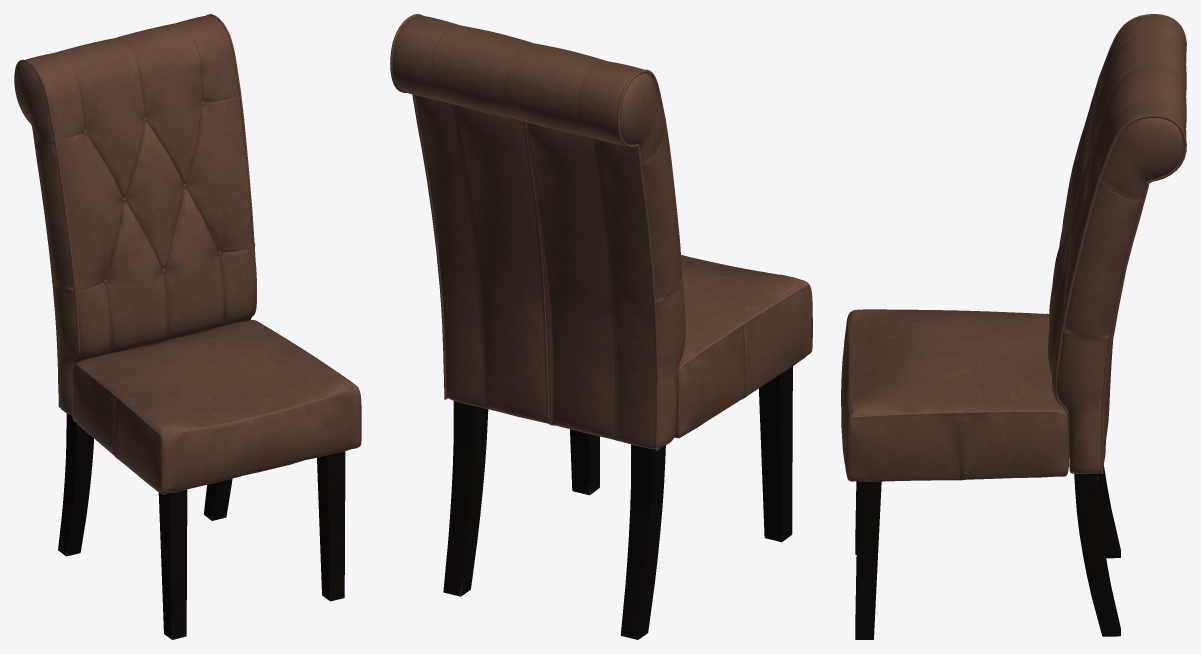
The model's file is dining-chair-tufted.glb.
3 renders of one model, left to right at view 1: azimuth 30°, elevation 25°; view 2: azimuth 150°, elevation 25°; view 3: azimuth 270°, elevation 25°, orthographic. The views are drawn at different scales.
Parts seen in each view (by area): view 1: dining_chair_02; view 2: dining_chair_02; view 3: dining_chair_02.
Boxes of the visible parts, <box> form: dining_chair_02: <box>14,14,361,639</box>; dining_chair_02: <box>390,14,812,639</box>; dining_chair_02: <box>841,14,1186,639</box>.
Size of the model in its own units: 0.4336 by 0.9734 by 0.5764.
2 materials, 2 textured.
